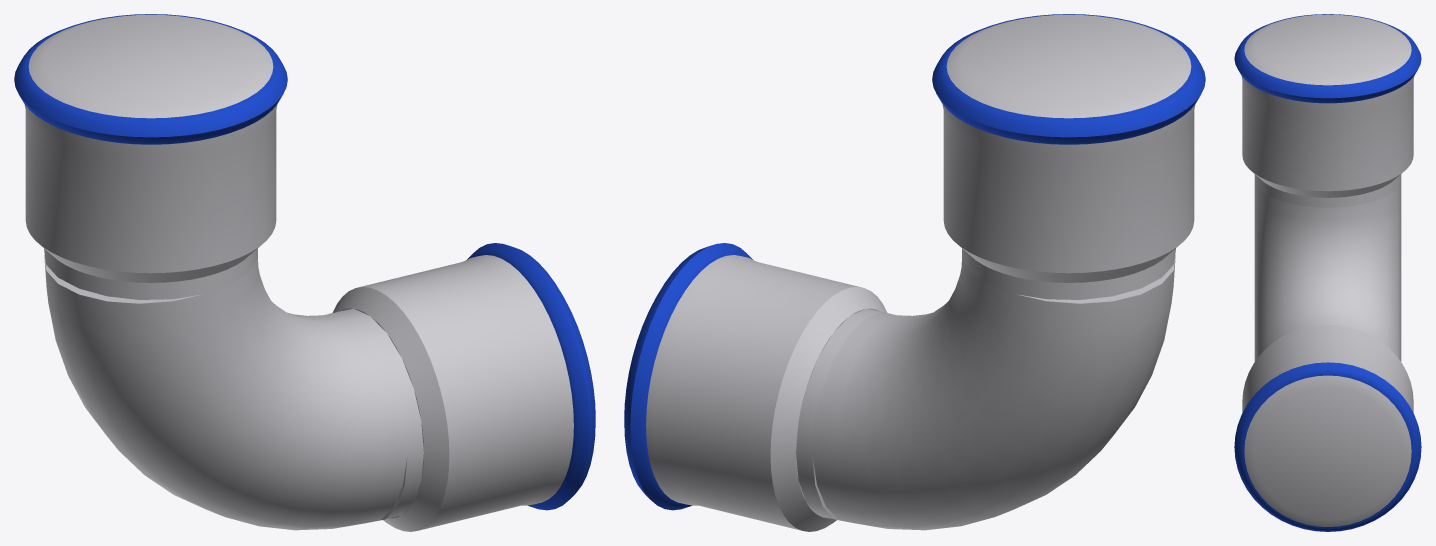
Rendered from fitting_e90_42.glb.
3 renders of one model, left to right at view 1: azimuth 30°, elevation 25°; view 2: azimuth 150°, elevation 25°; view 3: azimuth 270°, elevation 25°, orthographic. The views are drawn at different scales.
Visible parts, largest first — view 1: изгиб, раструб.001, раструб, кольцо пресс.001, кольцо пресс, корпус.001, корпус; view 2: изгиб, раструб.001, раструб, кольцо пресс.001, кольцо пресс, корпус.001, корпус; view 3: раструб, раструб.001, изгиб, кольцо пресс, кольцо пресс.001, корпус.001.
Part boxes in pixels (x1,y1,x2,y2): изгиб: [44, 255, 407, 530]; раструб.001: [24, 14, 277, 282]; раструб: [332, 255, 573, 531]; кольцо пресс.001: [14, 14, 287, 144]; кольцо пресс: [467, 243, 595, 510]; корпус.001: [44, 248, 257, 299]; корпус: [328, 308, 423, 520]; изгиб: [812, 255, 1175, 530]; раструб.001: [942, 14, 1195, 282]; раструб: [646, 255, 887, 531]; кольцо пресс.001: [932, 14, 1205, 144]; кольцо пресс: [624, 243, 752, 510]; корпус.001: [962, 248, 1175, 299]; корпус: [796, 308, 891, 520]; раструб: [1242, 324, 1413, 526]; раструб.001: [1241, 14, 1414, 197]; изгиб: [1254, 179, 1401, 361]; кольцо пресс: [1234, 362, 1421, 531]; кольцо пресс.001: [1234, 14, 1421, 103]; корпус.001: [1254, 174, 1401, 207].
Bounding box in the file's own units: 0.1226 × 0.1226 × 0.0573.
